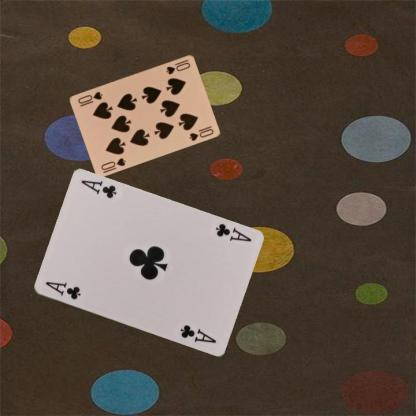10s: (163, 56, 191, 76), (99, 154, 127, 172)
Ac: (212, 221, 253, 243), (42, 279, 82, 301)
